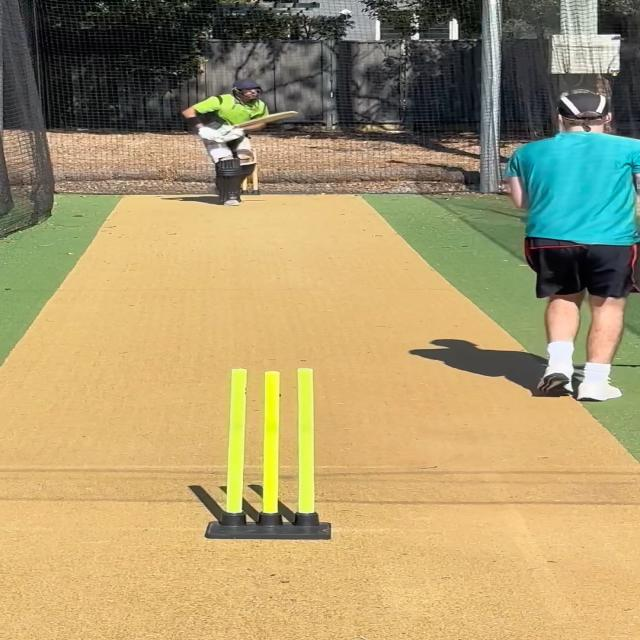stump: (203, 366, 335, 541)
